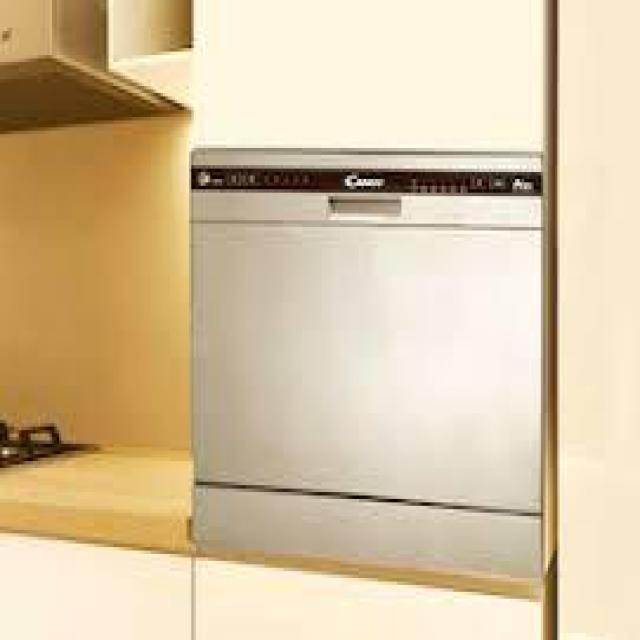dishwasher: (187, 141, 540, 578)
